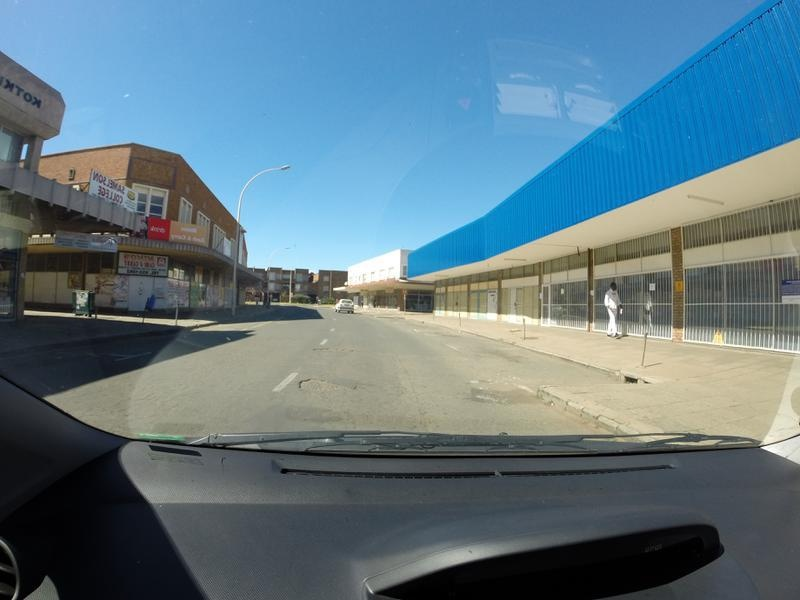pothole: (292, 370, 361, 399), (307, 341, 357, 358)
